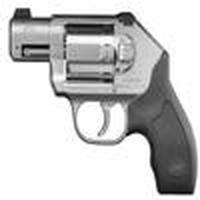gun: (7, 6, 200, 198)
